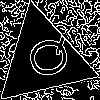Q: (18, 34, 73, 83)
